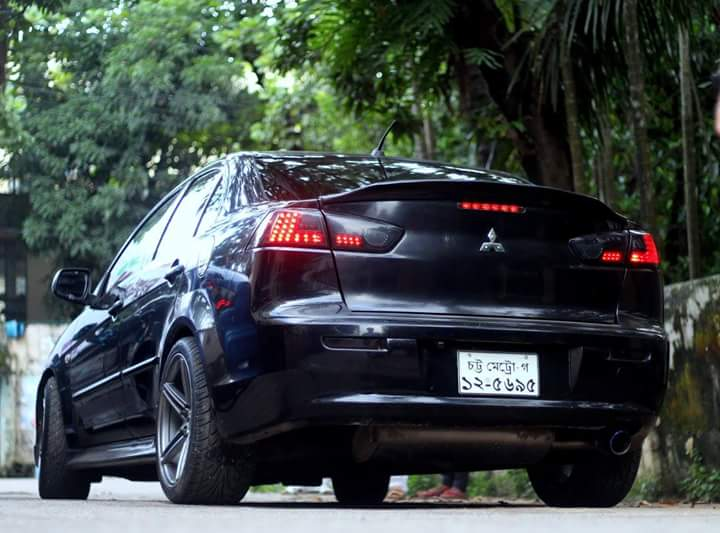registration_plate: (456, 349, 540, 396)
